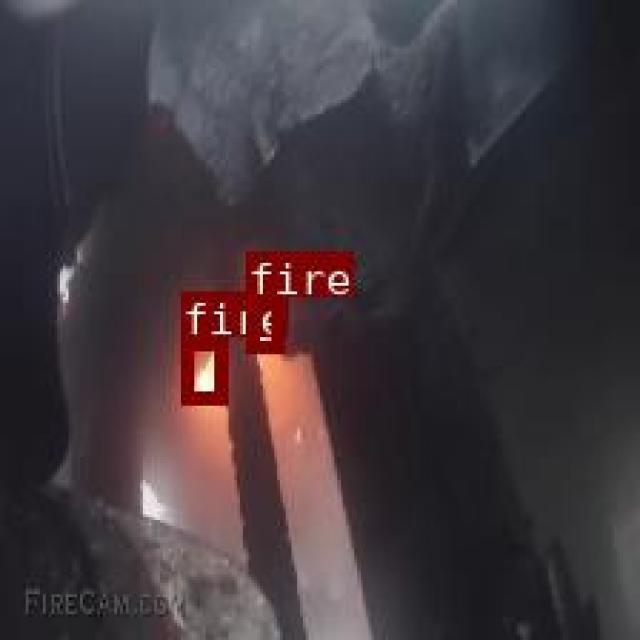fire: (180, 334, 226, 403), (244, 295, 280, 351)
